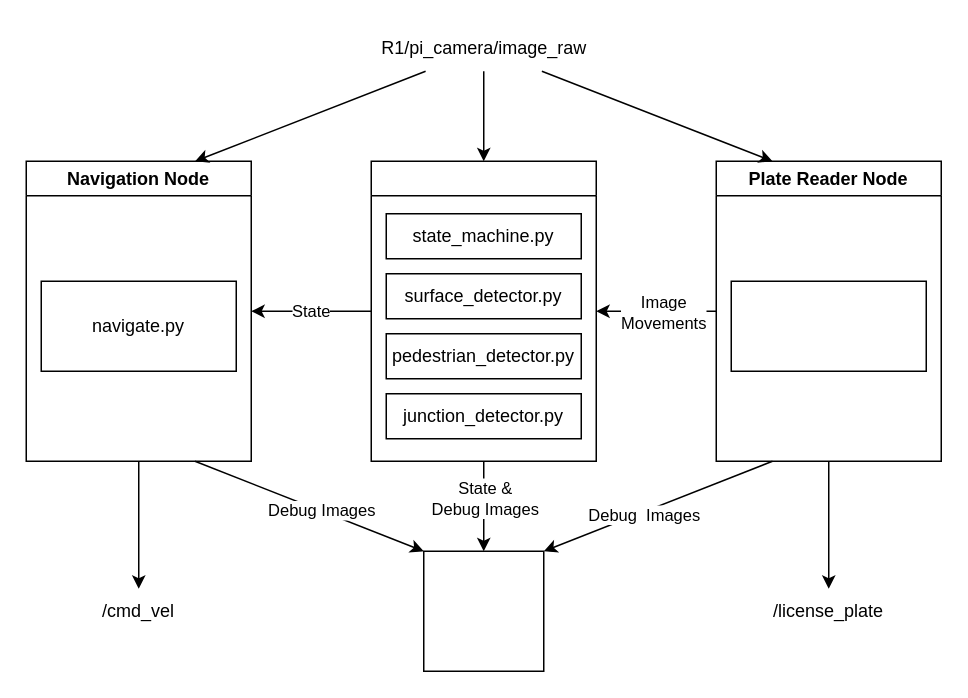
This 968x698 diagram has some shape labels left out. Each missing label, with the box of its shape:
GUI: (422, 550, 544, 671)
plate_reader.py: (730, 280, 926, 371)
State Machine Node: (370, 160, 596, 461)
